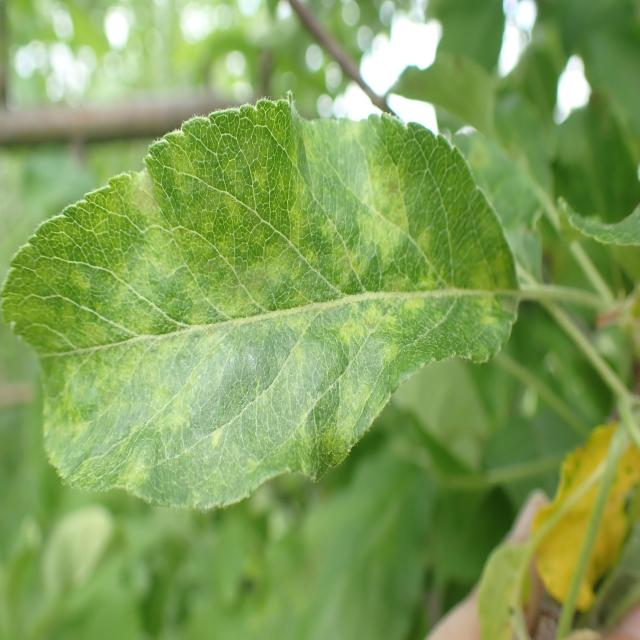scab: (15, 134, 507, 478)
